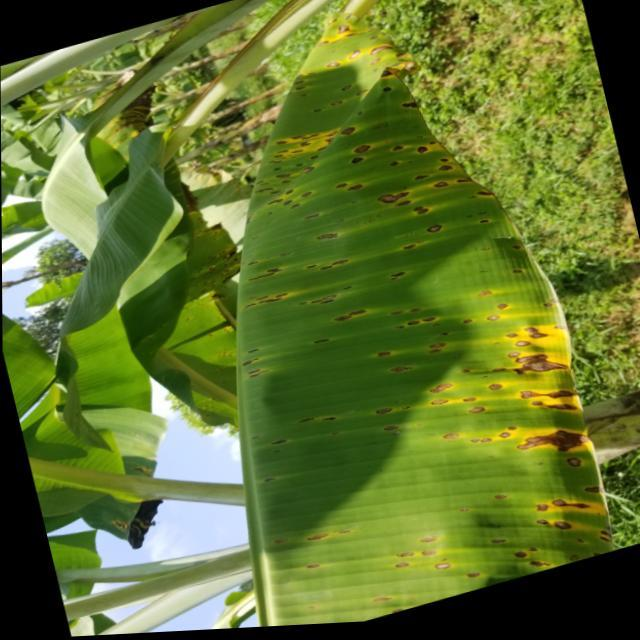Early_rust: (210, 31, 610, 587), (66, 45, 158, 155)
